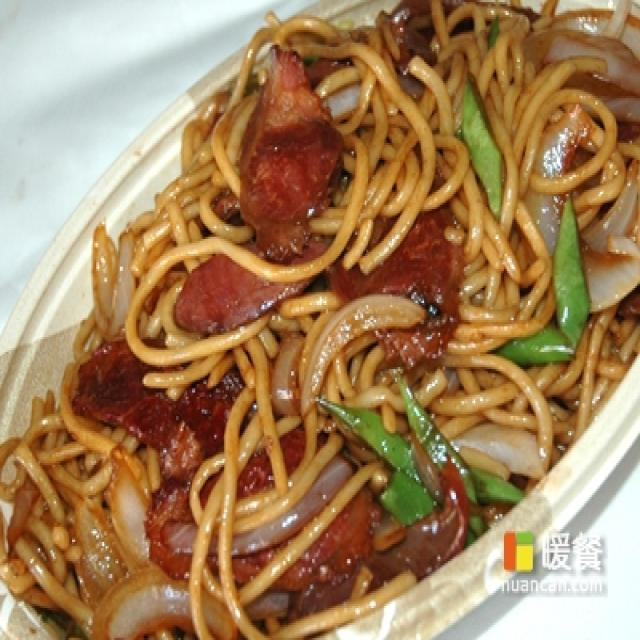面条主食: (3, 23, 635, 614)
